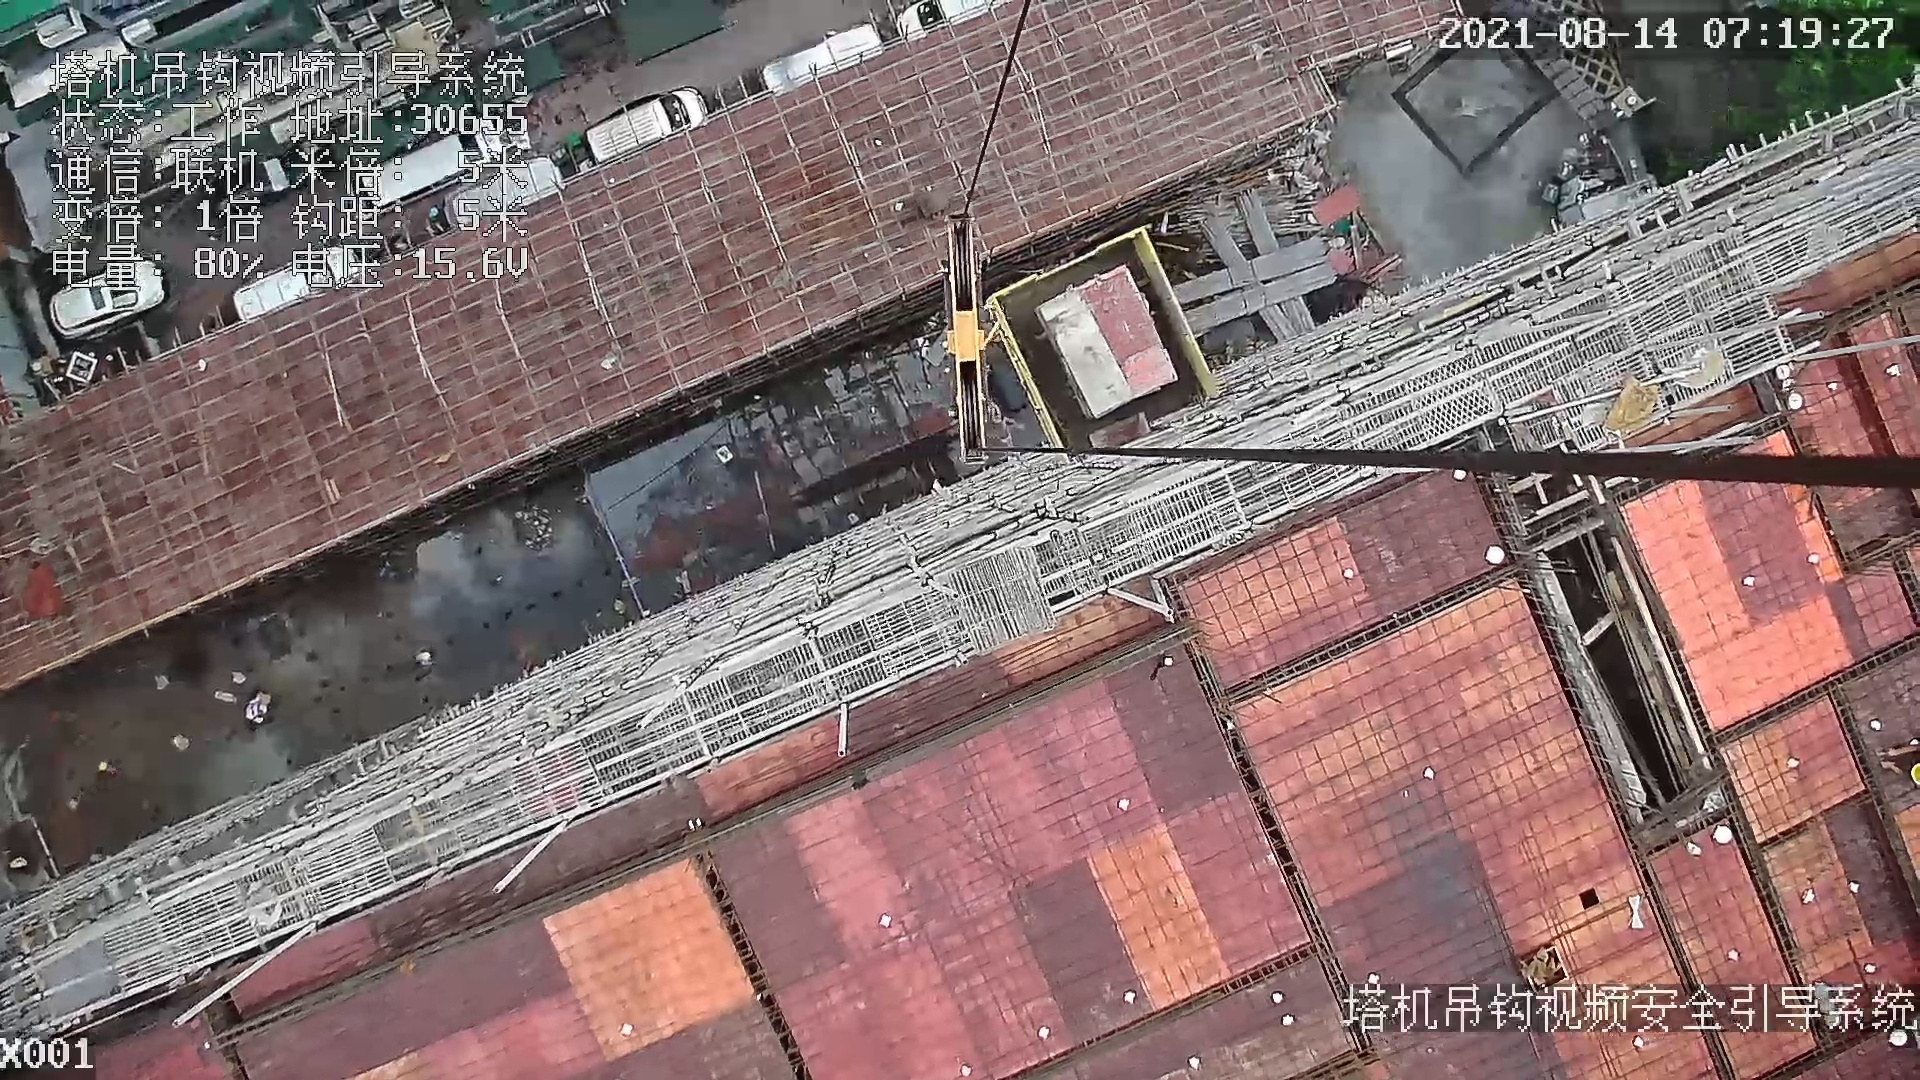hook: (938, 212, 1013, 462)
